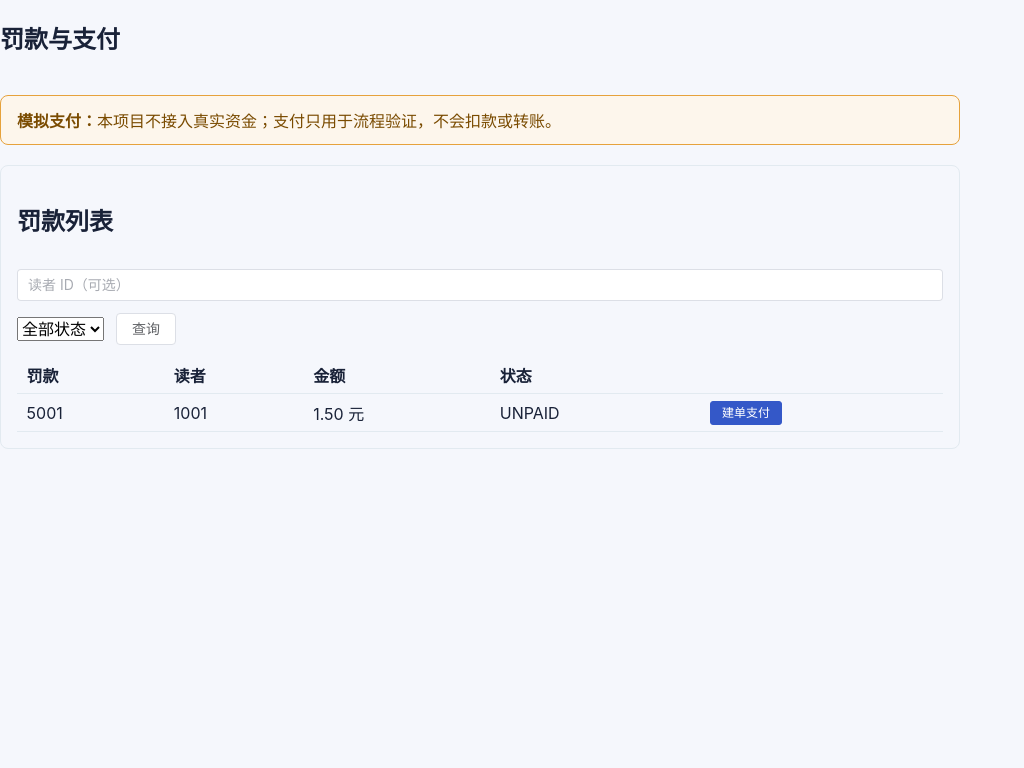
FineSettlementView › allows closing an occupied unpaid order and hides close after it is closed
Click the button with test id "create-order-5001" at coordinates (746, 413), box [710,401,782,425]
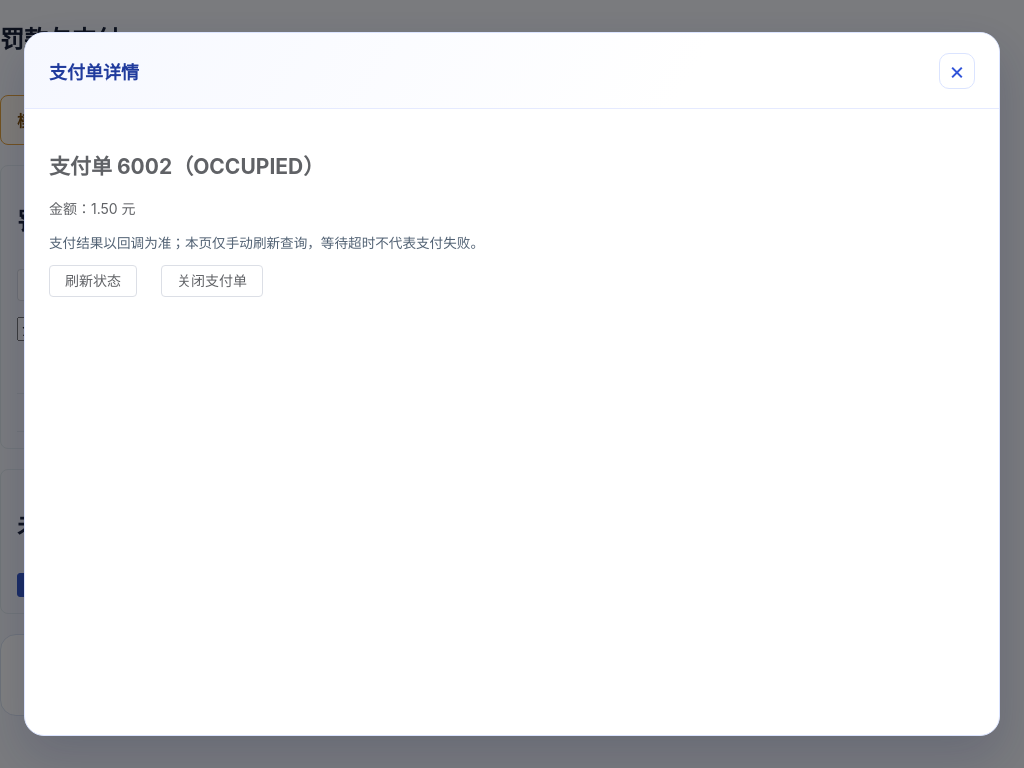
expect the heading with test id "order-panel-title" shows "OCCUPIED": met, box [49,154,324,179]
expect the button with test id "order-close" is shown: met
Click the button with test id "order-close" at coordinates (212, 281), box [161,265,263,297]
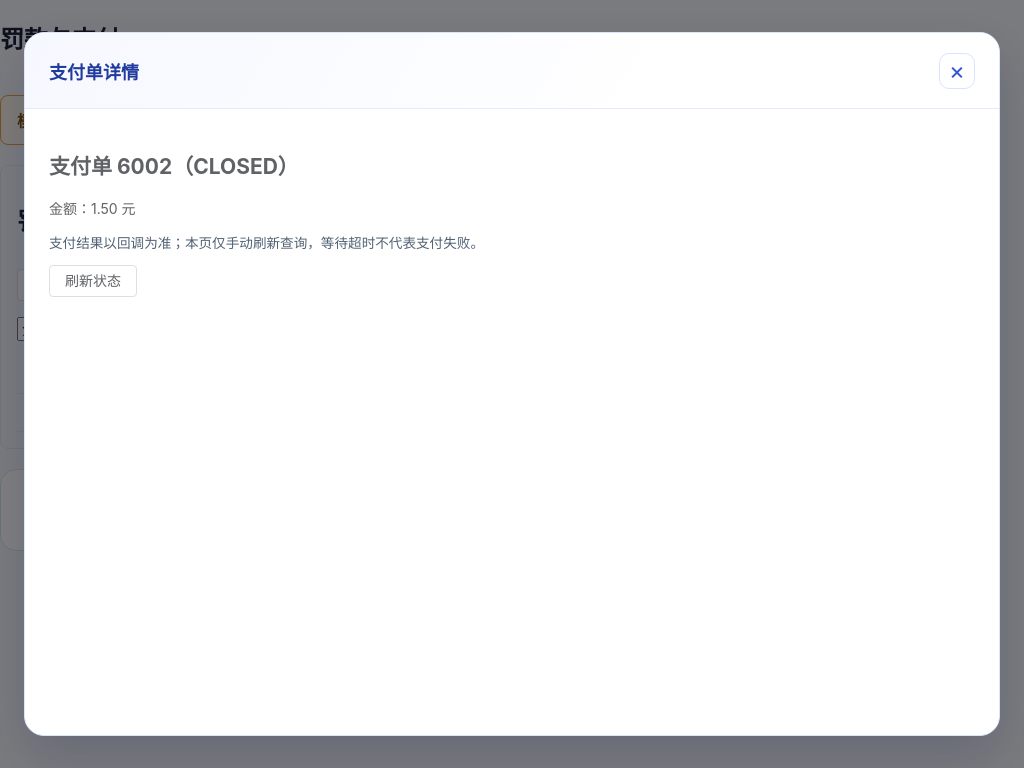
expect the heading with test id "order-panel-title" shows "CLOSED": met, box [49,154,299,179]
